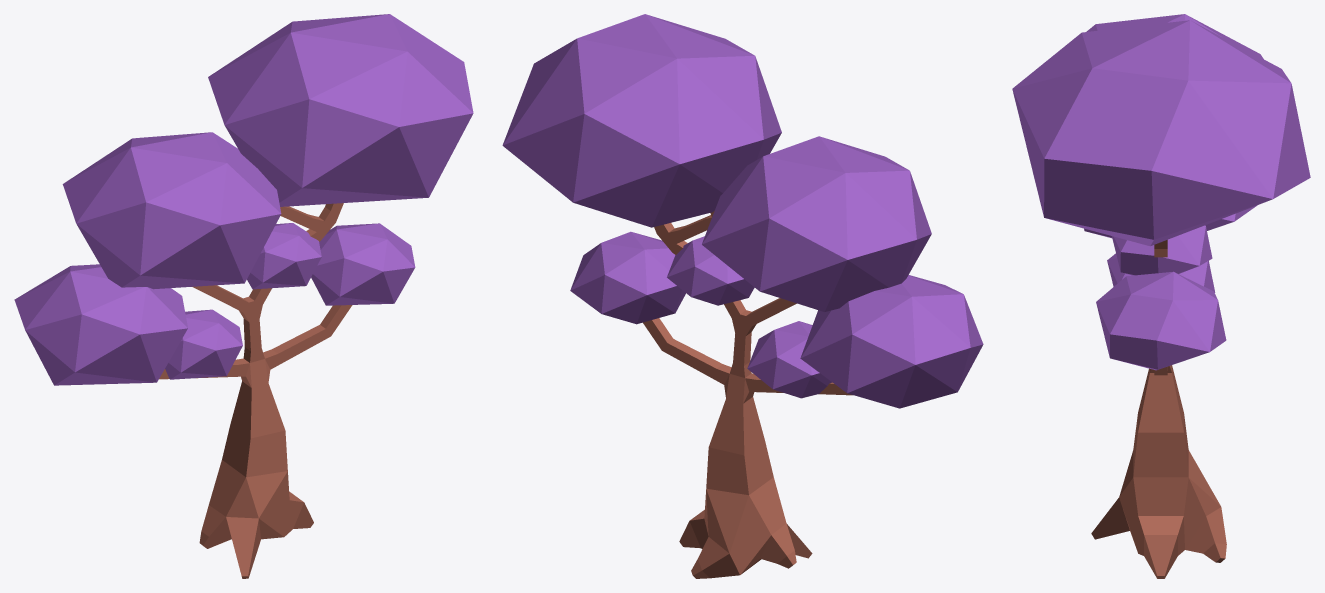
The model's file is tree_9.fbx.
3 renders of one model, left to right at view 1: azimuth 30°, elevation 25°; view 2: azimuth 150°, elevation 25°; view 3: azimuth 270°, elevation 25°, orthographic. The views are drawn at different scales.
Visible parts, largest first — view 1: Plane.023; view 2: Plane.023; view 3: Plane.023.
Part boxes in pixels (x1,y1,x2,y2): Plane.023: (14, 14, 473, 578); Plane.023: (502, 14, 983, 578); Plane.023: (1012, 14, 1310, 578).
Size of the model in its own units: 470 by 515 by 246.
